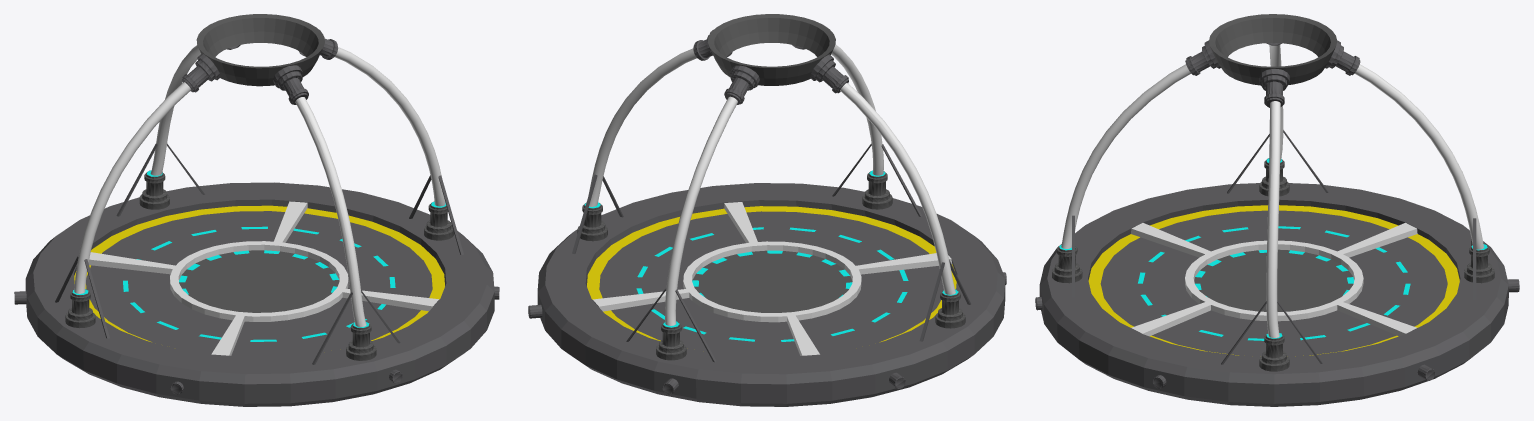
File: rocket.fbx
3 renders of one model, left to right at view 1: azimuth 30°, elevation 25°; view 2: azimuth 150°, elevation 25°; view 3: azimuth 270°, elevation 25°, orthographic.
Visible parts, largest first — view 1: Reactor, BezierCurve, BezierCurve.001, BezierCurve.002, BezierCurve.003; view 2: Reactor, BezierCurve, BezierCurve.003, BezierCurve.002, BezierCurve.001; view 3: Reactor, BezierCurve.002, BezierCurve.001, BezierCurve.003, BezierCurve.
Boxes of the visible parts, x1,y1,x2,y2 form: Reactor: (14, 14, 499, 406); BezierCurve: (74, 82, 191, 293); BezierCurve.001: (295, 97, 366, 326); BezierCurve.002: (334, 47, 445, 206); BezierCurve.003: (150, 45, 200, 175); Reactor: (528, 14, 1006, 406); BezierCurve: (840, 83, 955, 294); BezierCurve.003: (665, 96, 737, 325); BezierCurve.002: (588, 48, 696, 206); BezierCurve.001: (831, 44, 883, 175); Reactor: (1035, 14, 1519, 406); BezierCurve.002: (1266, 101, 1280, 337); BezierCurve.001: (1061, 64, 1190, 248); BezierCurve.003: (1354, 64, 1484, 249); BezierCurve: (1269, 44, 1283, 161).
Size of the model in its own units: 1375 by 873 by 1419.
